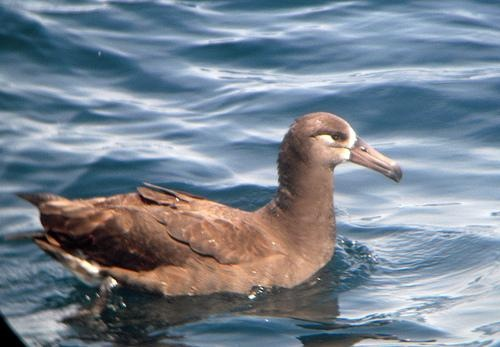bird: (27, 112, 404, 303)
